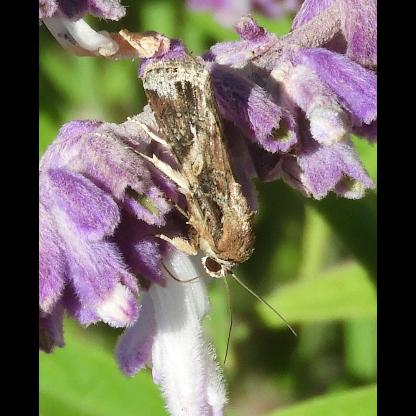Fall Armyworm Moth: (92, 48, 302, 368)
